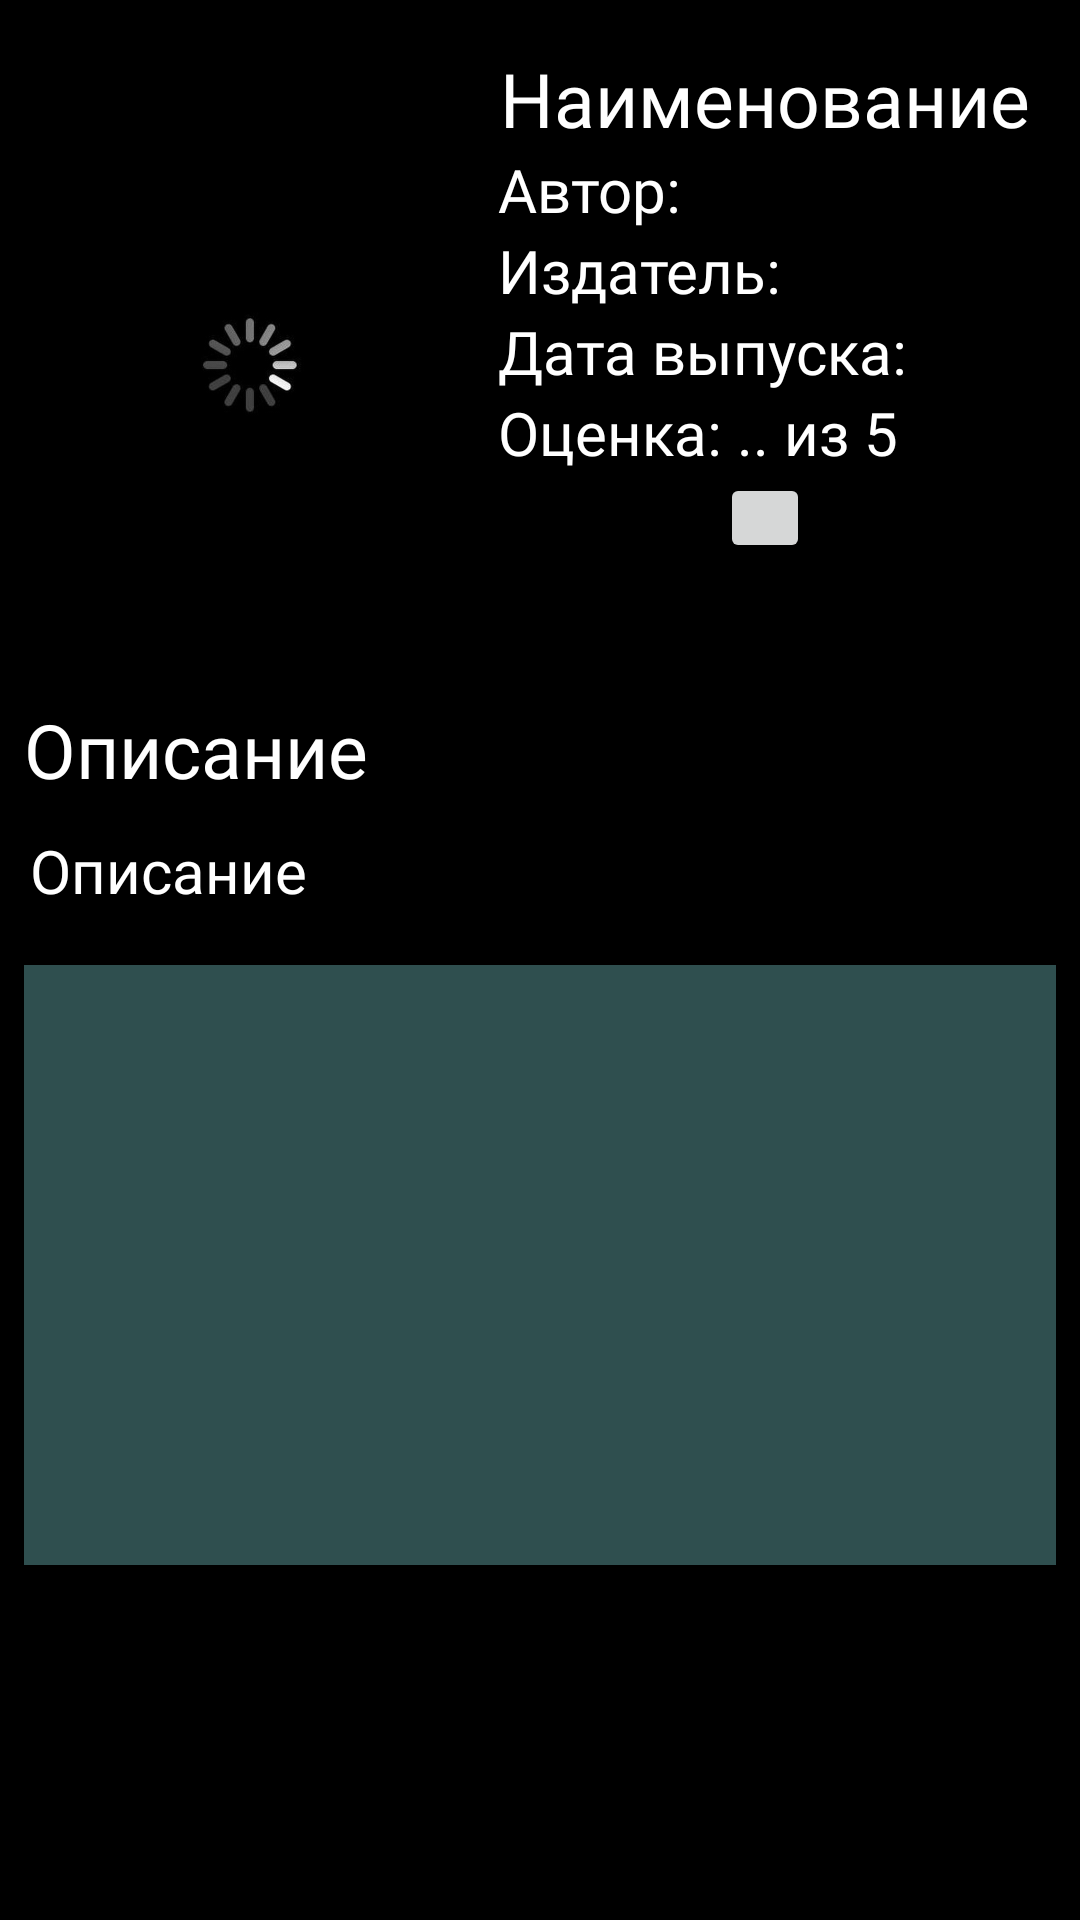

Screen size 1080 × 1920. Icon name, then its box in pixels as (x1, y1, x2, y2):
load: (203, 318, 297, 412)
